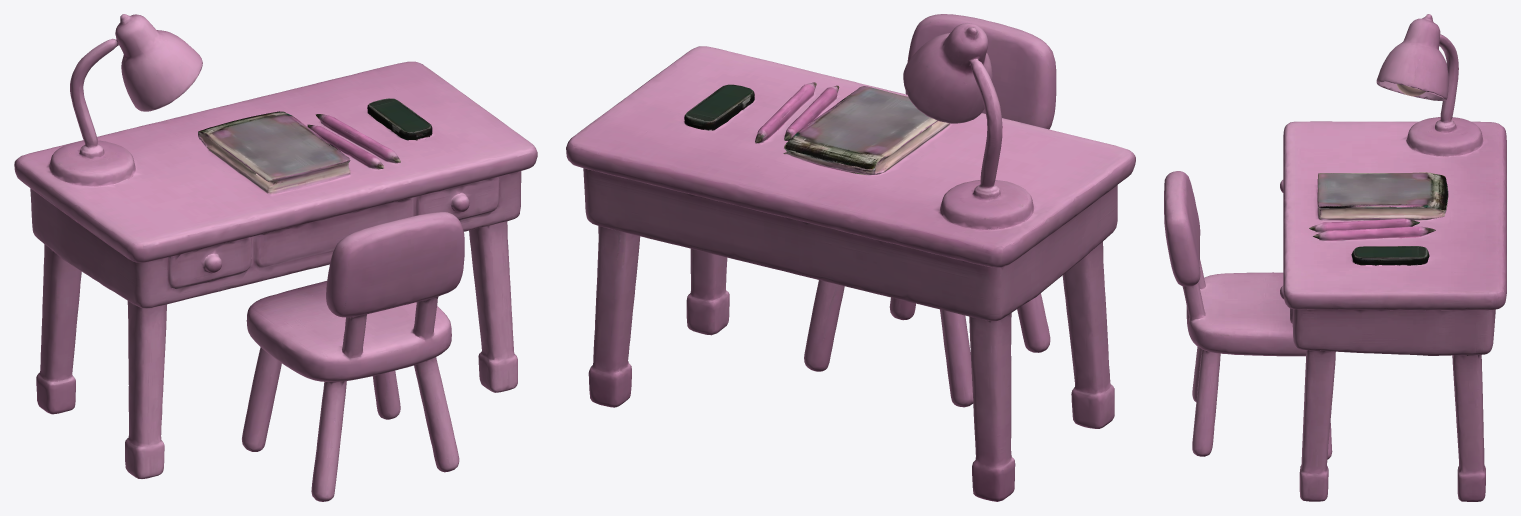
The model's file is bilik_desk_pink.glb.
The picture shows the model from 3 angles, left to right: view 1: azimuth 30°, elevation 25°; view 2: azimuth 150°, elevation 25°; view 3: azimuth 270°, elevation 25°; orthographic projection. The views are drawn at different scales.
Bounding box in the file's own units: 1 × 0.9565 × 0.8288.
Materials: 1 (1 with a texture image).
